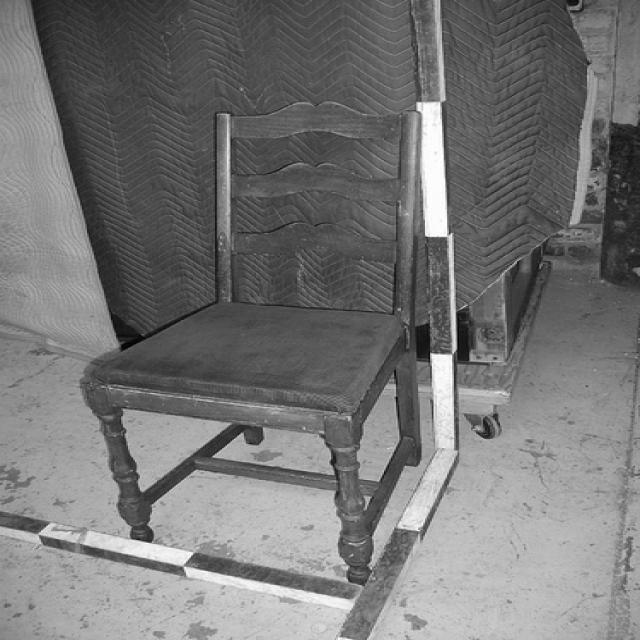chair: (82, 96, 430, 586)
